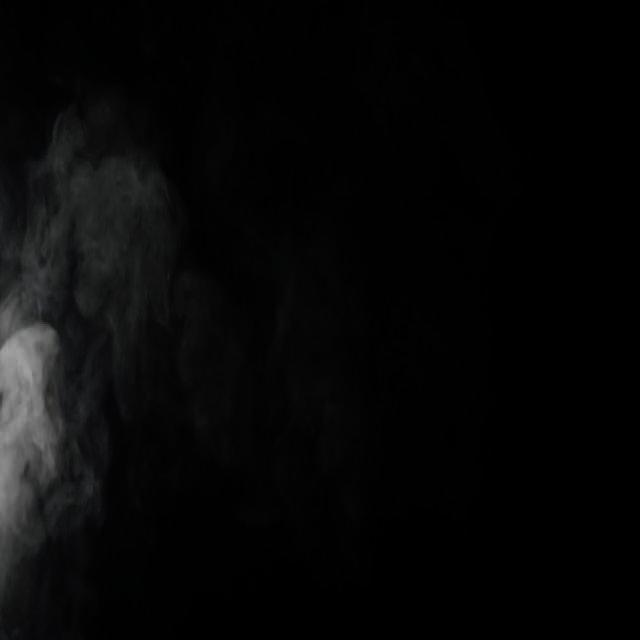smoke: (0, 323, 110, 640), (108, 227, 212, 426), (288, 226, 376, 438), (42, 78, 166, 224), (6, 166, 110, 332), (206, 289, 294, 473), (260, 444, 362, 574)
